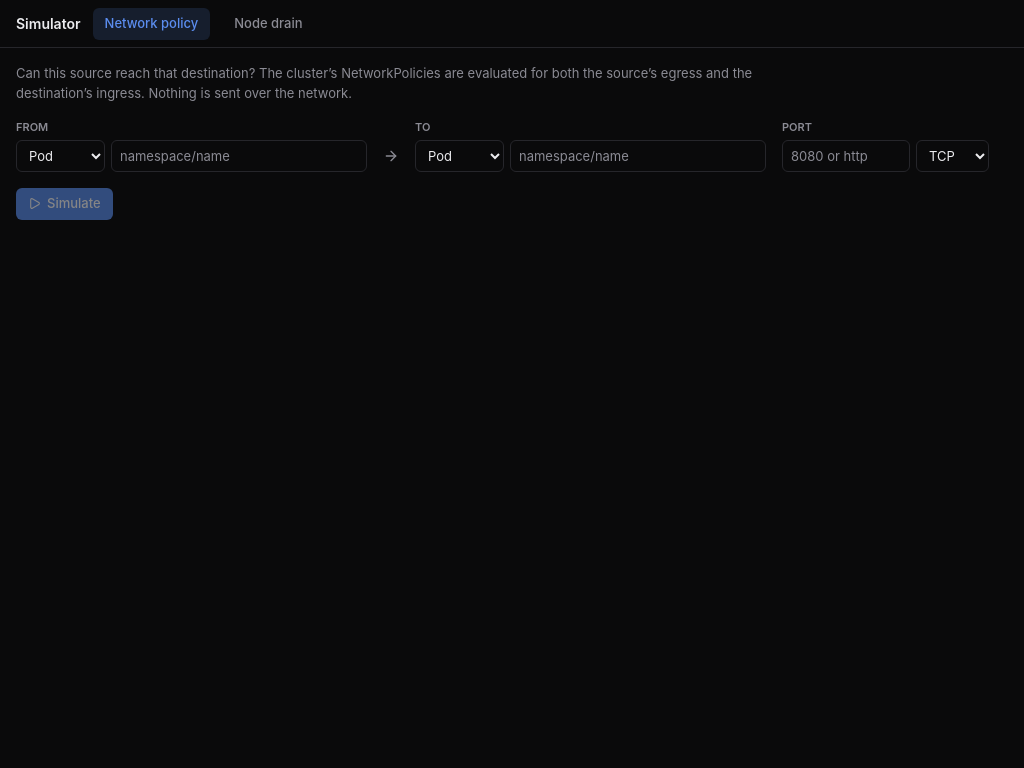
Test case: Simulator › simulates a drain and surfaces the blocking PDB, capacity and HPA headroom
Click the button "Node drain" at (268, 24), box top-left (222, 8), bottom-right (314, 40)
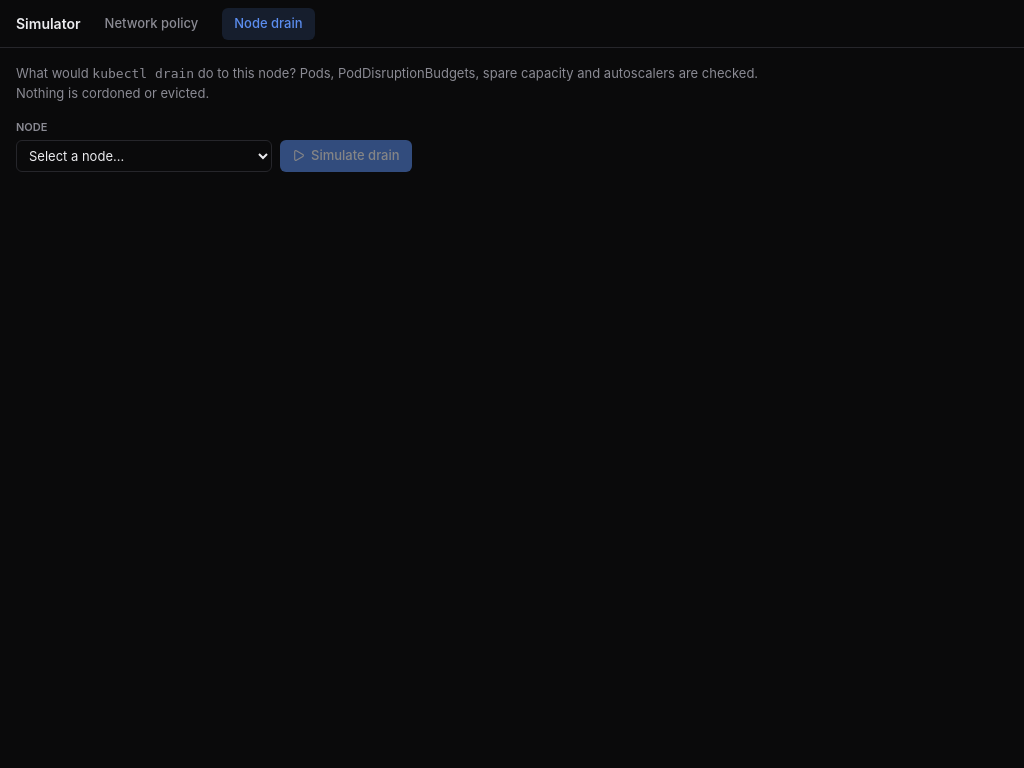
Check: the button "Simulate drain" is disabled, box top-left (280, 140), bottom-right (412, 172)
Select "n1" in the dropdown named "Node" at (144, 156), box top-left (16, 140), bottom-right (272, 172)
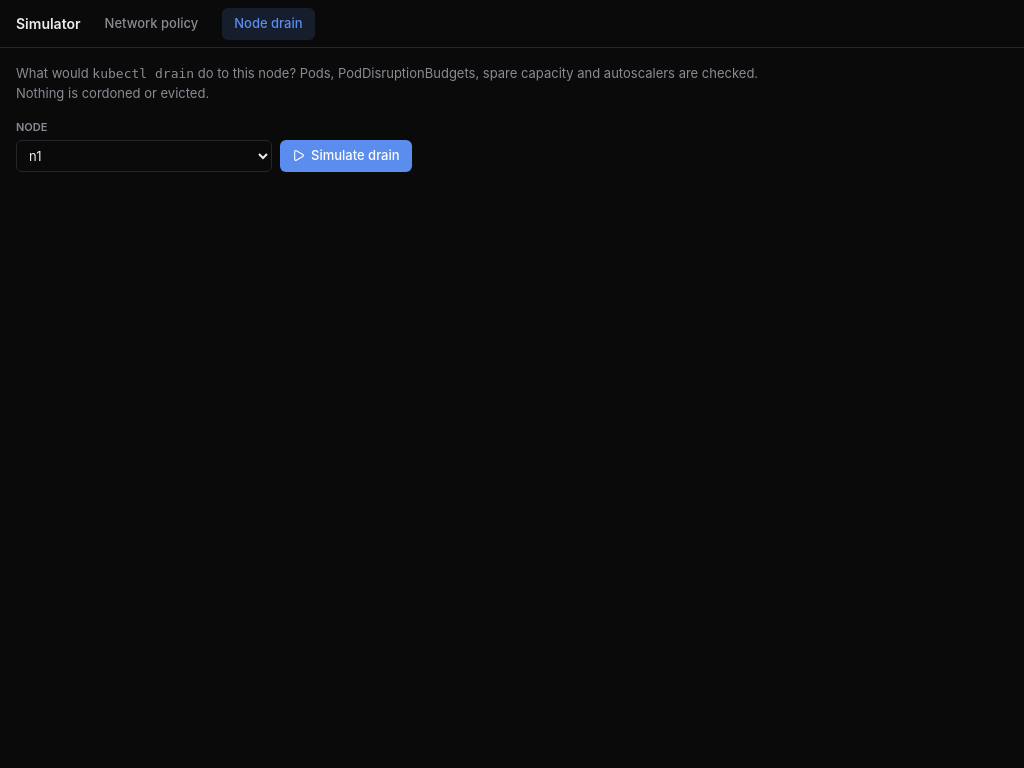
Click the button "Simulate drain" at (346, 156), box top-left (280, 140), bottom-right (412, 172)
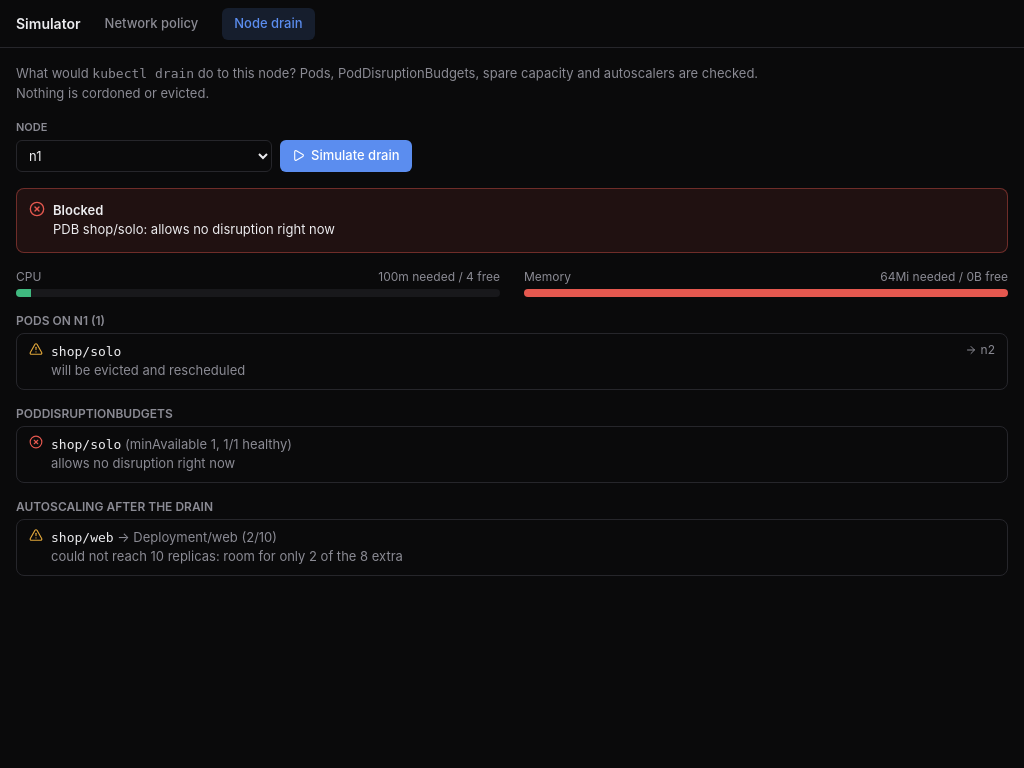
Check: the text "blocked" is shown, box top-left (53, 202), bottom-right (103, 218)
Check: the text "PDB shop/solo: allows no disruption right now" is shown, box top-left (53, 220), bottom-right (335, 240)
Check: the text "could not reach 10 replicas: room for only 2 of the 8 extra" is shown, box top-left (51, 547), bottom-right (403, 566)
